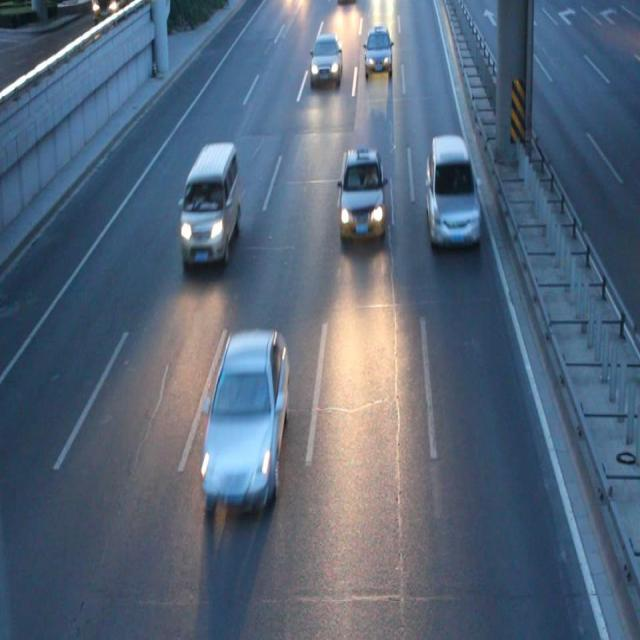car: (200, 331, 288, 512), (423, 134, 480, 246), (338, 148, 386, 243), (309, 34, 342, 84), (363, 28, 394, 77)
truck: (179, 142, 240, 267)
